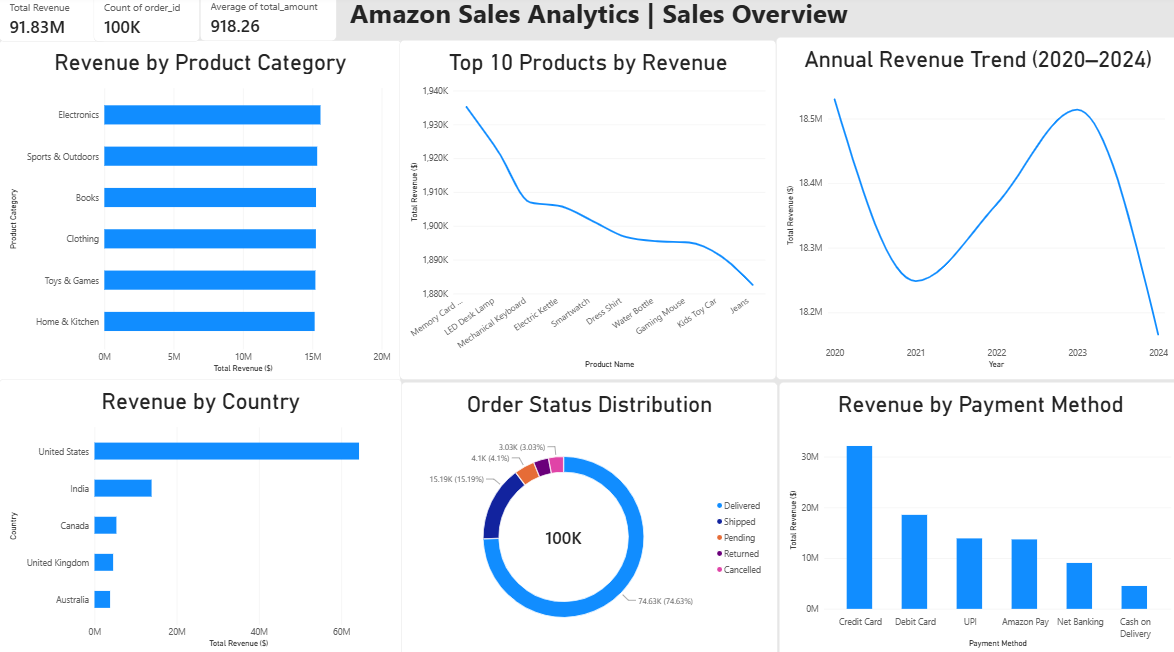

What the dashboard file says about the page in this screenshot:
{"tool":"powerbi","page":{"name":"Overview","canvas":[1920,1080],"ordinal":0},"visuals":[{"type":"clusteredBarChart","title":"Revenue by Product Category","fields":{"Category":["public amazon_sales.category"],"Y":["Sum(public amazon_sales.total_amount)"]},"box":[0,72.5,653.9,558.7],"z":0},{"type":"lineChart","title":"Annual Revenue Trend (2020–2024)","fields":{"Category":["public amazon_sales.order_date.Variation.Date Hierarchy.Year"],"Y":["Sum(public amazon_sales.total_amount)"]},"box":[1265,67.5,655,557.5],"z":1000},{"type":"lineChart","title":"Top 10 Products by Revenue","fields":{"Category":["public amazon_sales.product_name"],"Y":["Sum(public amazon_sales.total_amount)"]},"box":[652.5,72.5,612.5,552.5],"z":2000},{"type":"donutChart","title":"\tOrder Status Distribution","fields":{"Category":["public amazon_sales.order_status"],"Y":["Count(public amazon_sales.order_id)"]},"box":[655,630,612.5,450],"z":3000},{"type":"clusteredBarChart","title":"\tRevenue by Country","fields":{"Category":["public amazon_sales.country"],"Y":["Sum(public amazon_sales.total_amount)"]},"box":[0,625,655,455],"z":4000},{"type":"clusteredColumnChart","title":"\tRevenue by Payment Method","fields":{"Category":["public amazon_sales.payment_method"],"Y":["Sum(public amazon_sales.total_amount)"]},"box":[1267.5,630,655,450],"z":5000},{"type":"textbox","box":[570.9,0,825,67.5],"z":6000},{"type":"cardVisual","fields":{"Data":["public amazon_sales.Total Revenue"]},"box":[0,0,176.2,76.8],"z":7000},{"type":"cardVisual","fields":{"Data":["CountNonNull(public amazon_sales.order_id)"]},"box":[153.6,0,173.9,76.8],"z":8000},{"type":"cardVisual","title":"Average Order Value","fields":{"Data":["Avg(public amazon_sales.total_amount)"]},"box":[326.9,0,222,75.6],"z":9000}]}

Visuals, with their boxes in screenshot pixels (x1, y1, x2, y2), scaled from the page's 1920x1080 canvas onto the 1174x652 screenshot:
"Revenue by Product Category" clusteredBarChart: crop(0, 44, 400, 381)
"Annual Revenue Trend (2020–2024)" lineChart: crop(773, 41, 1173, 377)
"Top 10 Products by Revenue" lineChart: crop(399, 44, 773, 377)
"	Order Status Distribution" donutChart: crop(401, 380, 775, 651)
"	Revenue by Country" clusteredBarChart: crop(0, 377, 401, 651)
"	Revenue by Payment Method" clusteredColumnChart: crop(775, 380, 1173, 651)
textbox: crop(349, 0, 854, 41)
cardVisual - public amazon_sales.Total Revenue: crop(0, 0, 108, 46)
cardVisual - CountNonNull(public amazon_sales.order_id): crop(94, 0, 200, 46)
"Average Order Value" cardVisual: crop(200, 0, 336, 46)
